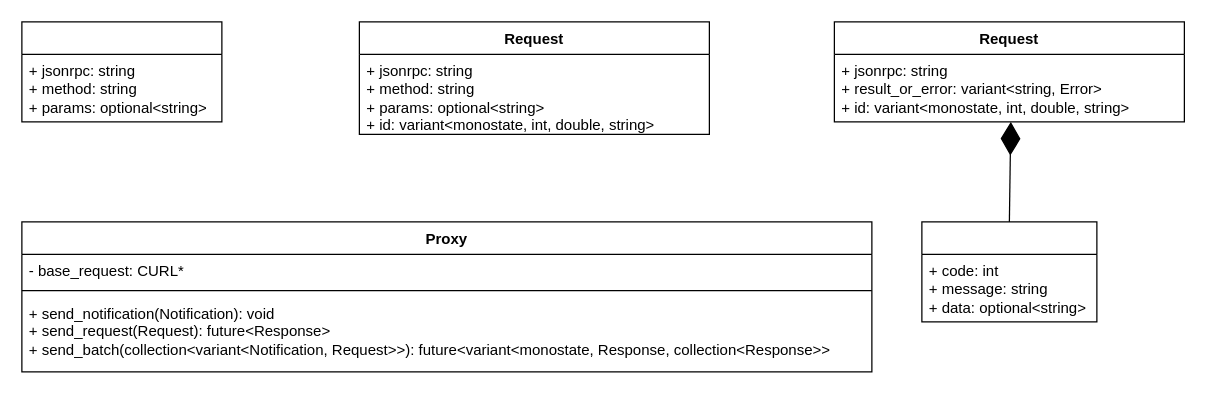
This 1206x398 diagram has some shape labels left out. Here are the shapes that lost their labels. From the top down, the box of each, then its label:
(21, 21, 222, 122): Notification
(921, 221, 1097, 322): Error
